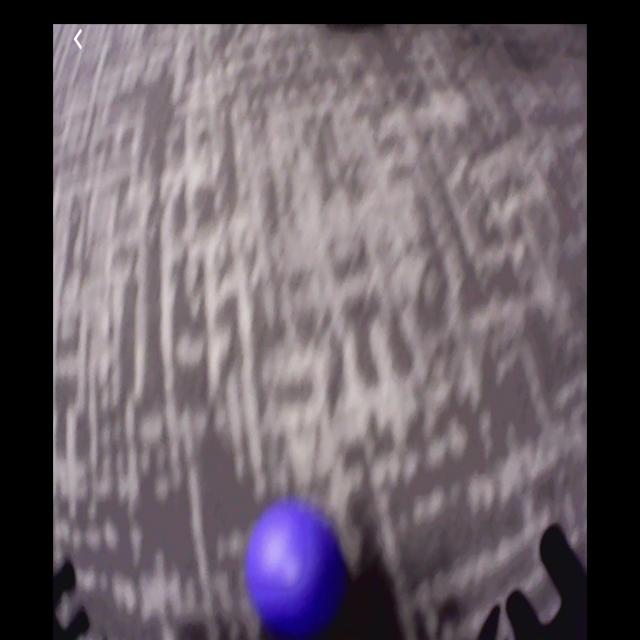ball: (247, 508, 337, 632)
